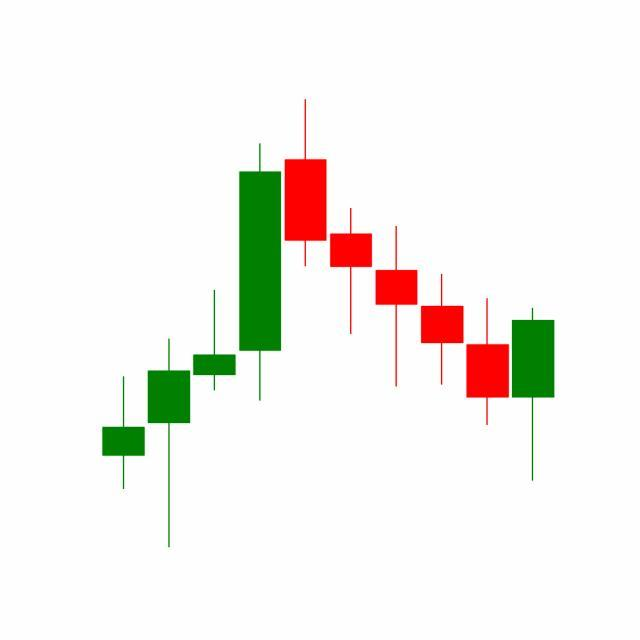Hikkake Pattern: (283, 99, 512, 430)
